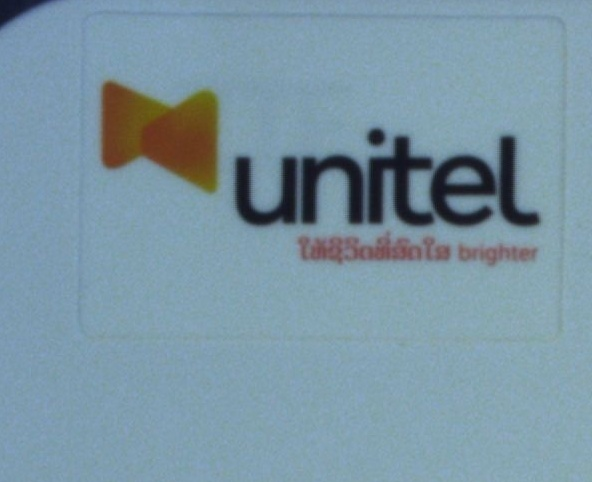BT_unitel: (98, 78, 540, 267)
